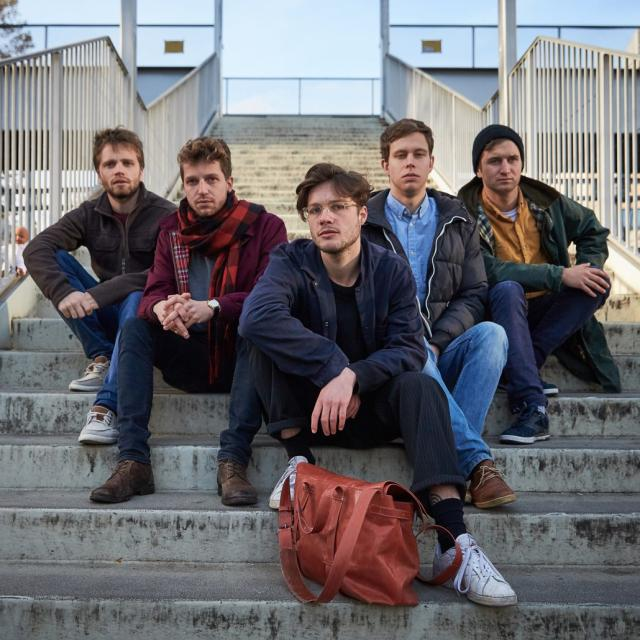body: (235, 158, 522, 611), (78, 136, 296, 515), (360, 115, 518, 509), (447, 121, 624, 448), (22, 123, 181, 446)
